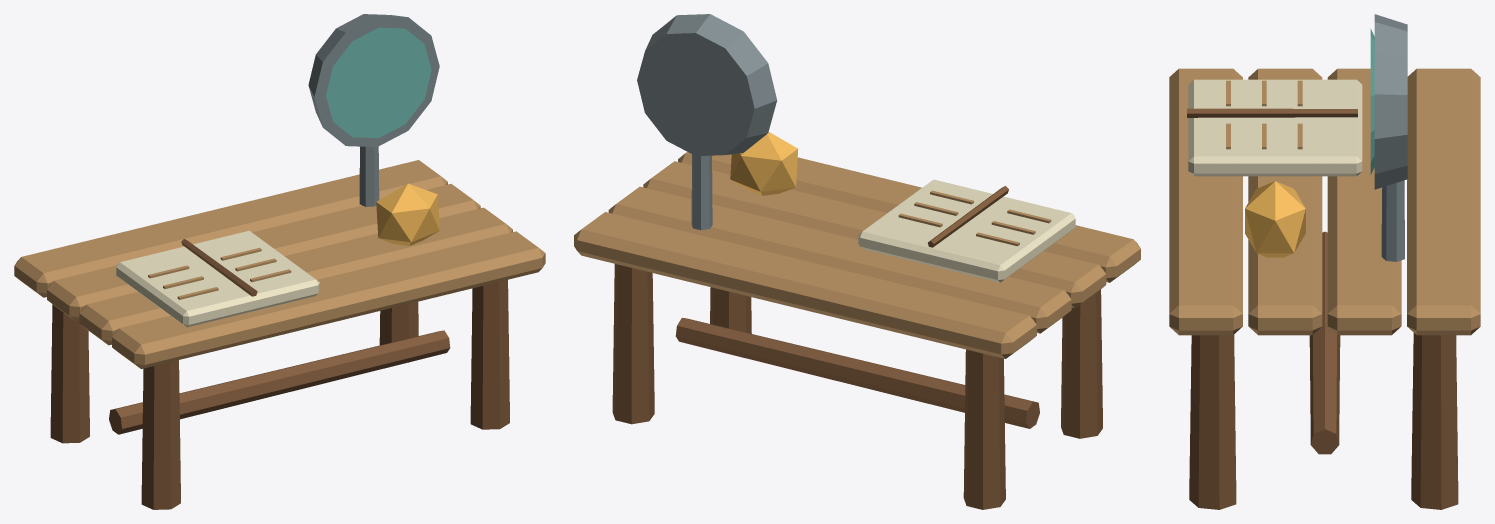
The model's file is CC_ResearchDesk.fbx.
3 views of the same model, side by side, from view 1: azimuth 30°, elevation 25°; view 2: azimuth 150°, elevation 25°; view 3: azimuth 270°, elevation 25° (orthographic). The views are drawn at different scales.
Visible parts, largest first — view 1: Plank.020, Plank.023, Open journal, Lens face, Plank.021, Brace.005, Plank.022, Leg.026, Leg.024, Lens rim, Leg.025, Specimen (+3 smaller); view 2: Plank.023, Lens rim, Plank.022, Open journal, Plank.021, Brace.005, Plank.020, Leg.027, Leg.025, Leg.024, Specimen, Leg.026 (+2 smaller); view 3: Plank.023, Open journal, Plank.020, Plank.022, Plank.021, Leg.027, Leg.026, Lens rim, Brace.005, Specimen, Lens stand, Journal spine (+1 smaller).
Boxes of the visible parts, bbox=[...] form: Plank.020: bbox=[112, 231, 545, 368]; Plank.023: bbox=[14, 160, 447, 297]; Open journal: bbox=[116, 230, 319, 327]; Lens face: bbox=[326, 27, 431, 138]; Plank.021: bbox=[79, 207, 512, 345]; Brace.005: bbox=[109, 330, 450, 434]; Plank.022: bbox=[47, 183, 480, 321]; Leg.026: bbox=[470, 280, 509, 429]; Leg.024: bbox=[141, 360, 180, 509]; Lens rim: bbox=[308, 14, 439, 147]; Leg.025: bbox=[50, 304, 89, 443]; Specimen: bbox=[376, 183, 439, 245]; Plank.023: bbox=[574, 212, 1036, 358]; Lens rim: bbox=[637, 14, 777, 156]; Plank.022: bbox=[608, 186, 1071, 333]; Open journal: bbox=[858, 179, 1075, 282]; Plank.021: bbox=[643, 161, 1106, 308]; Brace.005: bbox=[675, 317, 1039, 428]; Plank.020: bbox=[678, 152, 1140, 282]; Leg.027: bbox=[612, 264, 654, 424]; Leg.025: bbox=[963, 349, 1005, 509]; Leg.024: bbox=[1061, 289, 1102, 438]; Specimen: bbox=[730, 132, 798, 195]; Leg.026: bbox=[710, 287, 751, 333]; Plank.023: bbox=[1407, 68, 1480, 335]; Open journal: bbox=[1188, 79, 1362, 176]; Plank.020: bbox=[1169, 68, 1242, 335]; Plank.022: bbox=[1327, 68, 1401, 335]; Plank.021: bbox=[1248, 68, 1322, 335]; Leg.027: bbox=[1411, 333, 1458, 509]; Leg.026: bbox=[1189, 334, 1236, 509]; Lens rim: bbox=[1374, 14, 1407, 189]; Brace.005: bbox=[1309, 231, 1340, 454]; Specimen: bbox=[1245, 181, 1305, 257]; Lens stand: bbox=[1381, 180, 1404, 261]; Journal spine: bbox=[1187, 108, 1357, 117].
Bounding box in the file's own units: 2.1 × 1.8 × 1.13.
